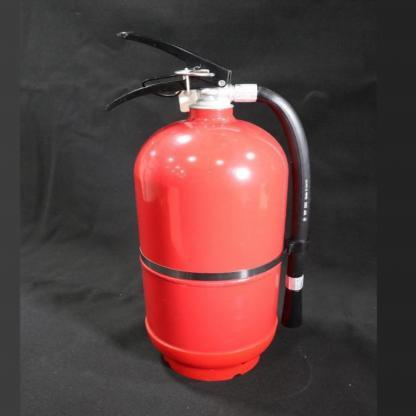Fire Extinguisher: (87, 14, 323, 390)
